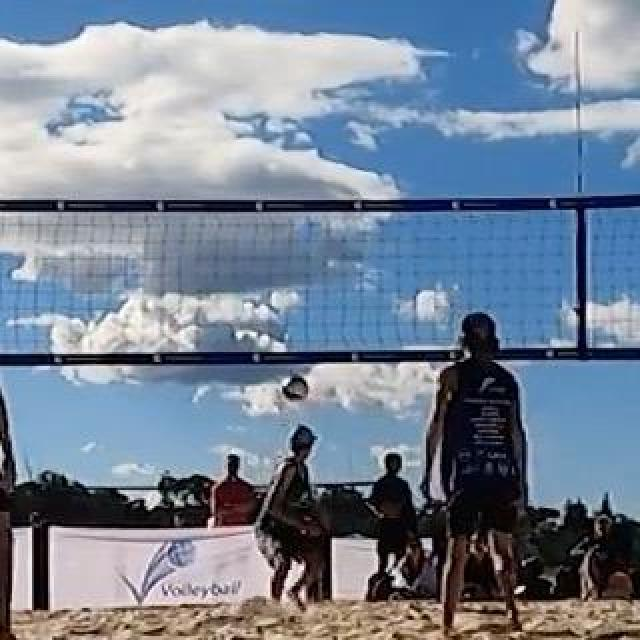volleyball: (282, 376, 308, 402)
